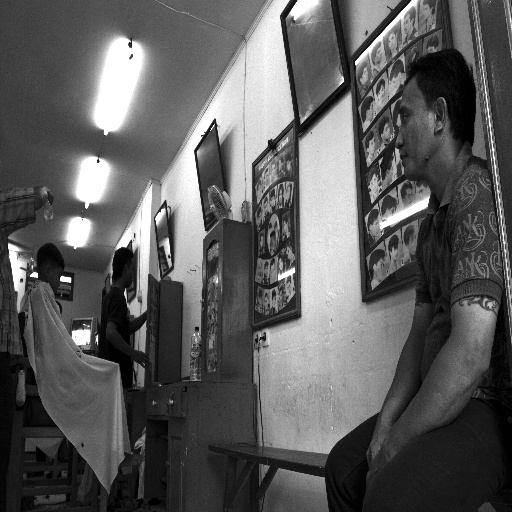hand: (364, 420, 394, 464), (364, 447, 388, 489), (133, 350, 149, 368), (41, 184, 53, 205)
